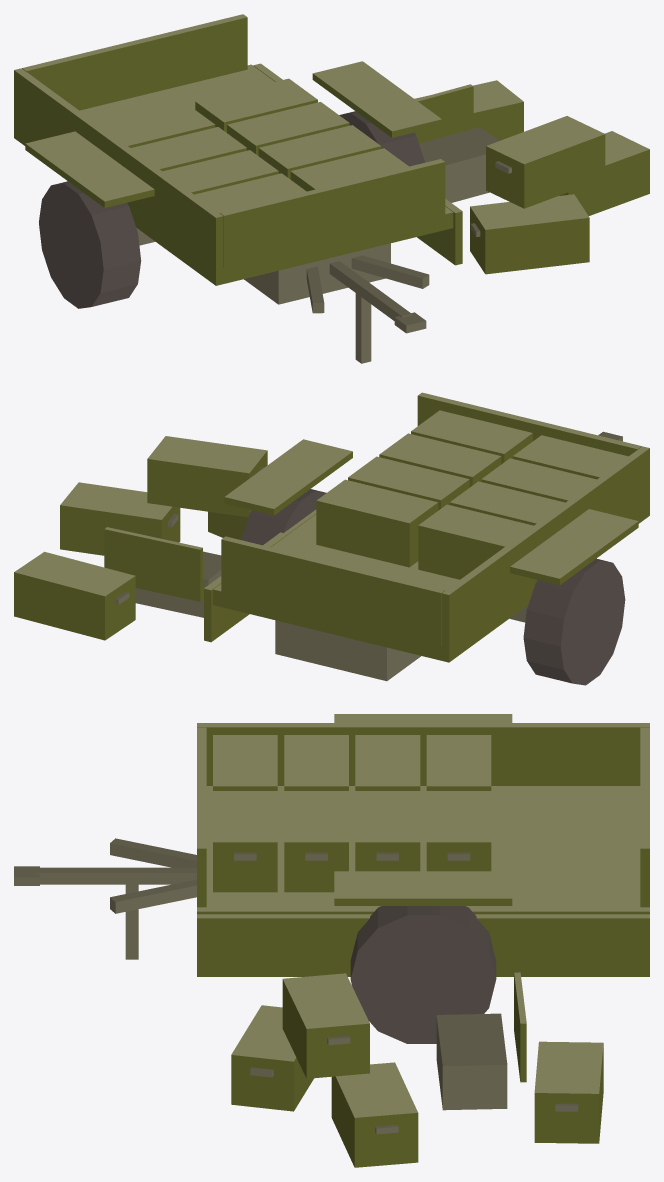
File: SM_RemolqueMunicion_v2_Descargando_LOD0.fbx
3 views of the same model, one above another, from view 1: azimuth 30°, elevation 25°; view 2: azimuth 150°, elevation 25°; view 3: azimuth 270°, elevation 25° (orthographic). The views are drawn at different scales.
Visible parts, largest first — view 1: SM_remolque_municion_v2_LOD0; view 2: SM_remolque_municion_v2_LOD0; view 3: SM_remolque_municion_v2_LOD0.
Boxes of the visible parts, x1,y1,x2,y2 form: SM_remolque_municion_v2_LOD0: (14, 14, 649, 363); SM_remolque_municion_v2_LOD0: (14, 392, 649, 685); SM_remolque_municion_v2_LOD0: (14, 714, 649, 1167).
Size of the model in its own units: 4.44 by 1.15 by 3.93.
